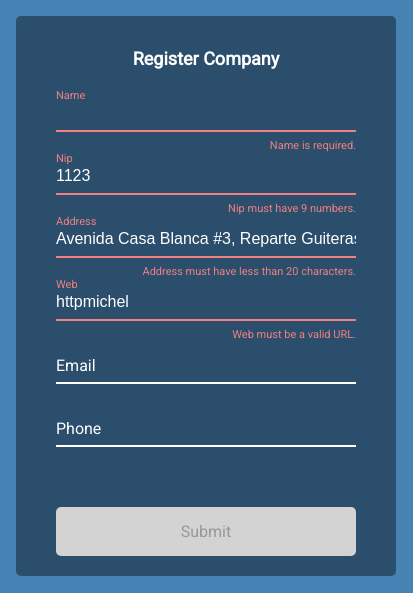
Test: Testing Form Company › Email input should be a valid email address
This screenshot has width=413, height=593.
Type "michel2015.com" into the field with test id "email-input" at (206, 363), box [56,341,356,384]
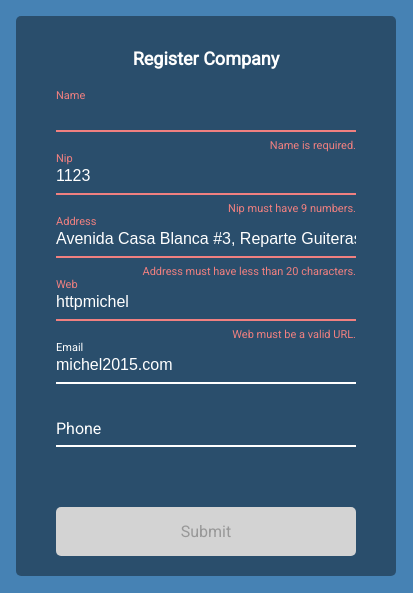
Leave the field with test id "email-input", box [56,341,356,384]
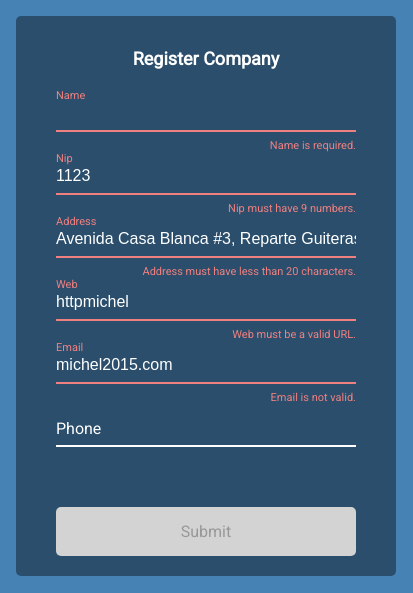
Now the text "Email is not valid." is shown, box [271,391,356,404]
